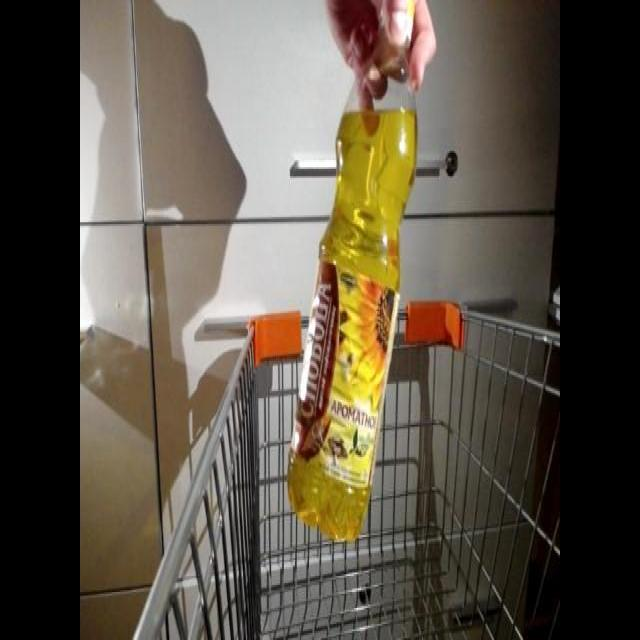Oil: (282, 0, 422, 548)
